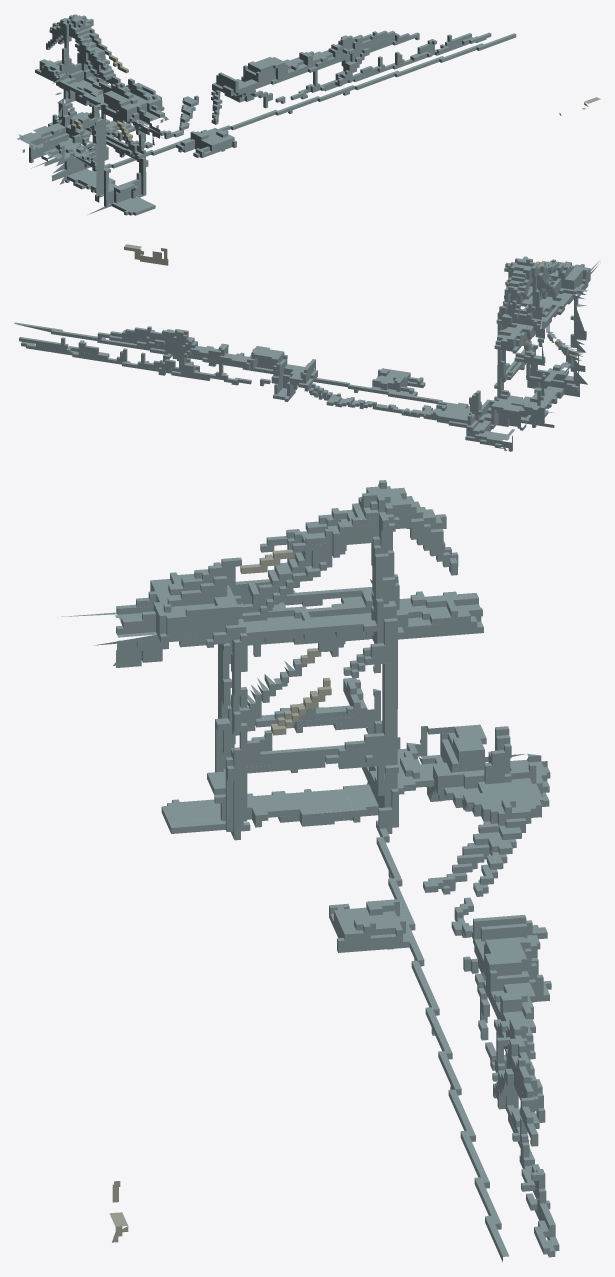
The picture shows the model from 3 angles, top to bottom: view 1: azimuth 30°, elevation 25°; view 2: azimuth 150°, elevation 25°; view 3: azimuth 270°, elevation 25°; orthographic projection. The views are drawn at different scales.
Parts seen in each view (by area): view 1: measured-industrial; view 2: measured-industrial; view 3: measured-industrial.
Part boxes in pixels (x1,y1,x2,y2): measured-industrial: (17,14,600,215); measured-industrial: (14,244,600,451); measured-industrial: (57,480,559,1261).
Size of the model in its own units: 269 by 83.36 by 115.
